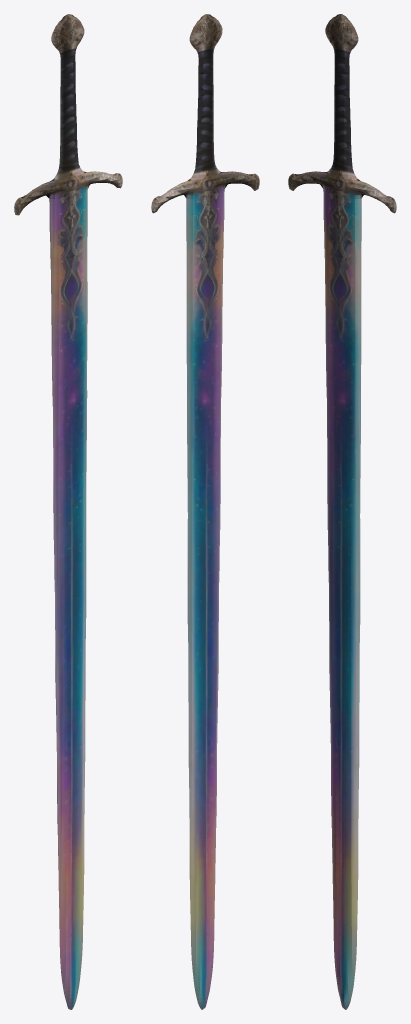
Rendered from rainbow_sword.glb.
The picture shows the model from 3 angles, left to right: view 1: azimuth 30°, elevation 25°; view 2: azimuth 210°, elevation 25°; view 3: azimuth 330°, elevation 25°; orthographic projection.
Parts seen in each view (by area): view 1: Grid; view 2: Grid; view 3: Grid.
Part boxes in pixels (x1,y1,x2,y2): Grid: (14,14,122,1009); Grid: (151,14,259,1009); Grid: (288,14,396,1009).
Size of the model in its own units: 0.4378 by 3.84 by 0.0437.
1 material, 1 textured.
